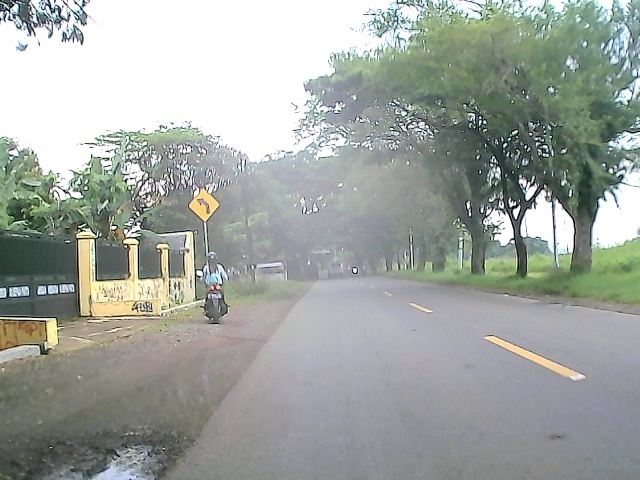Tikungan ke kiri: (188, 189, 223, 221)
